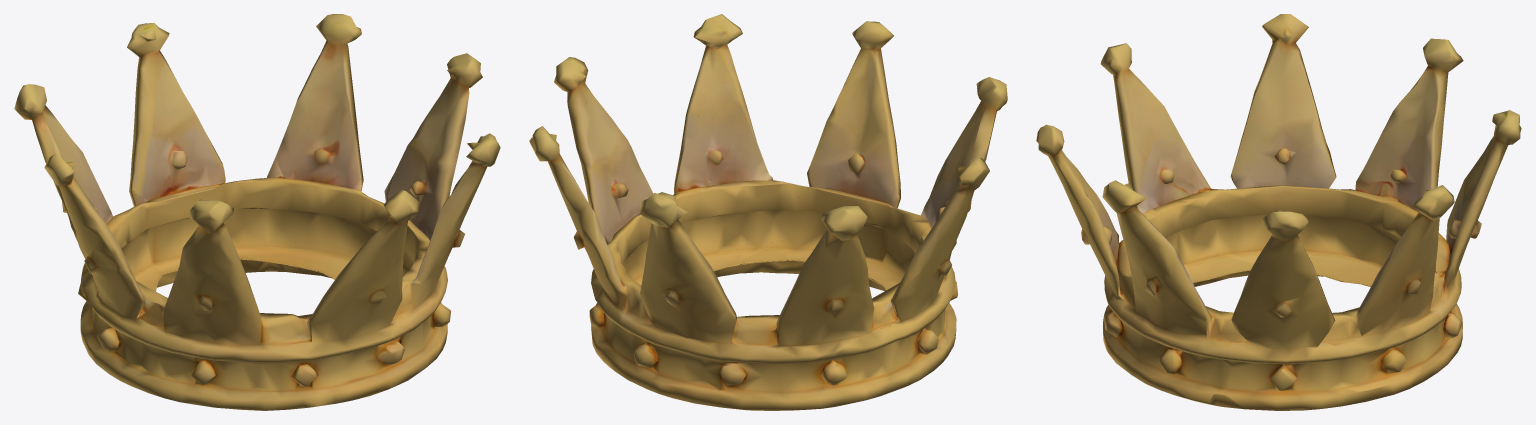
The model's file is gold_crown.glb.
3 renders of one model, left to right at view 1: azimuth 30°, elevation 25°; view 2: azimuth 150°, elevation 25°; view 3: azimuth 270°, elevation 25°, orthographic.
Visible parts, largest first — view 1: tripo_node_97de60fb-3ef9-4751-8a11-b20440ed65d7; view 2: tripo_node_97de60fb-3ef9-4751-8a11-b20440ed65d7; view 3: tripo_node_97de60fb-3ef9-4751-8a11-b20440ed65d7.
Boxes of the visible parts, bbox=[...] form: tripo_node_97de60fb-3ef9-4751-8a11-b20440ed65d7: bbox=[14, 14, 500, 410]; tripo_node_97de60fb-3ef9-4751-8a11-b20440ed65d7: bbox=[529, 14, 1007, 410]; tripo_node_97de60fb-3ef9-4751-8a11-b20440ed65d7: bbox=[1036, 14, 1521, 410].
Bounding box in the file's own units: 0.9984 × 0.5226 × 0.9984.
1 material, 1 textured.
